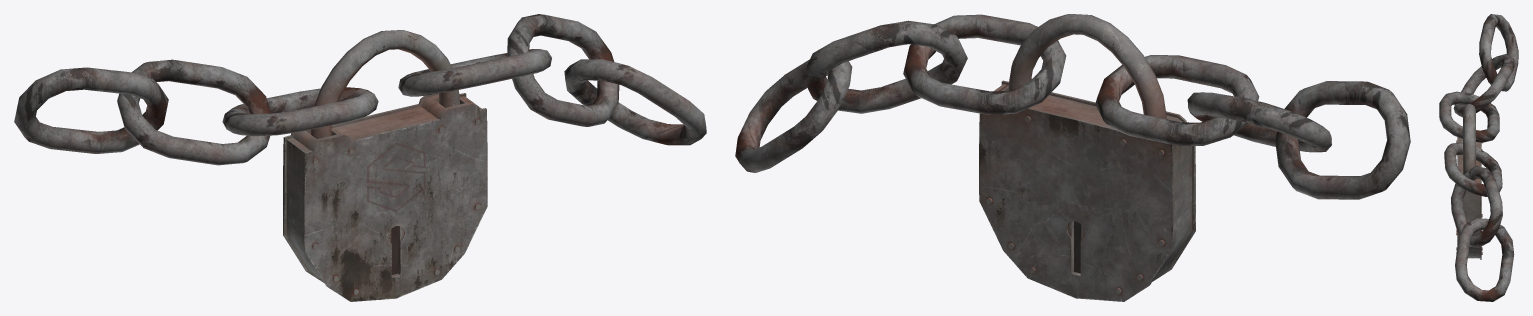
The model's file is prop_padlock.glb.
3 renders of one model, left to right at view 1: azimuth 30°, elevation 25°; view 2: azimuth 150°, elevation 25°; view 3: azimuth 270°, elevation 25°, orthographic. The views are drawn at different scales.
Visible parts, largest first — view 1: lock door_0; view 2: lock door_0; view 3: lock door_0.
Part boxes in pixels (x1,y1,x2,y2): lock door_0: (14,14,706,301); lock door_0: (735,14,1410,301); lock door_0: (1439,14,1518,301).
Bounding box in the file's own units: 5.66 × 2.29 × 1.06.
Materials: 1 (1 with a texture image).
